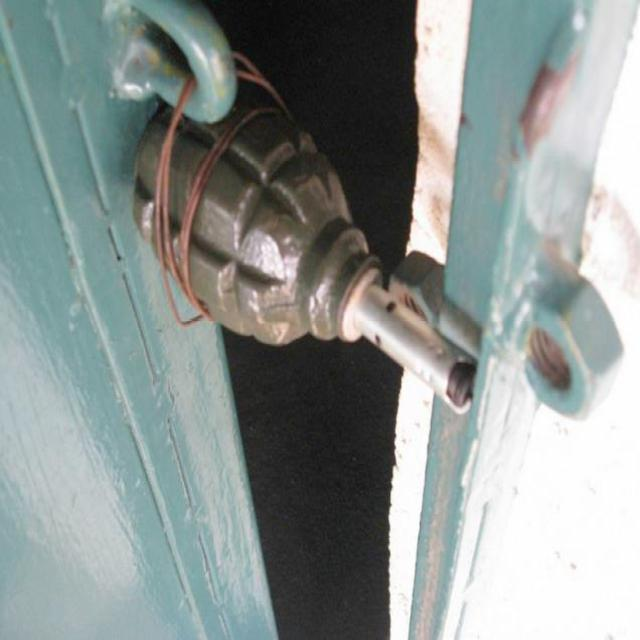grenade: (133, 91, 473, 416)
